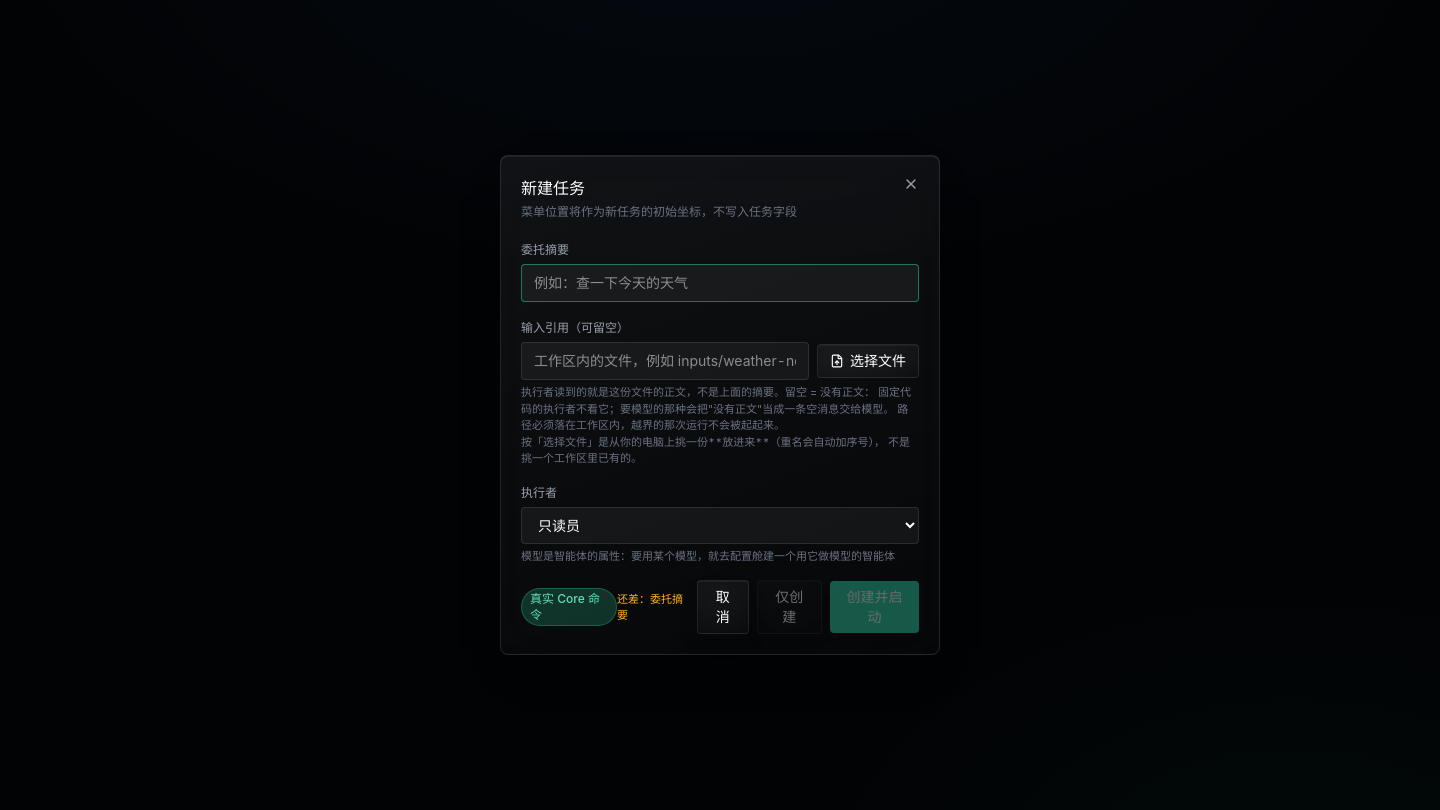
Test: 新建任务 › 输入引用可以缺省：后端本来就不要它
Type "只有摘要" into the field with placeholder "例如：查一下今天的天气" at (720, 283), box top-left (521, 264), bottom-right (919, 302)
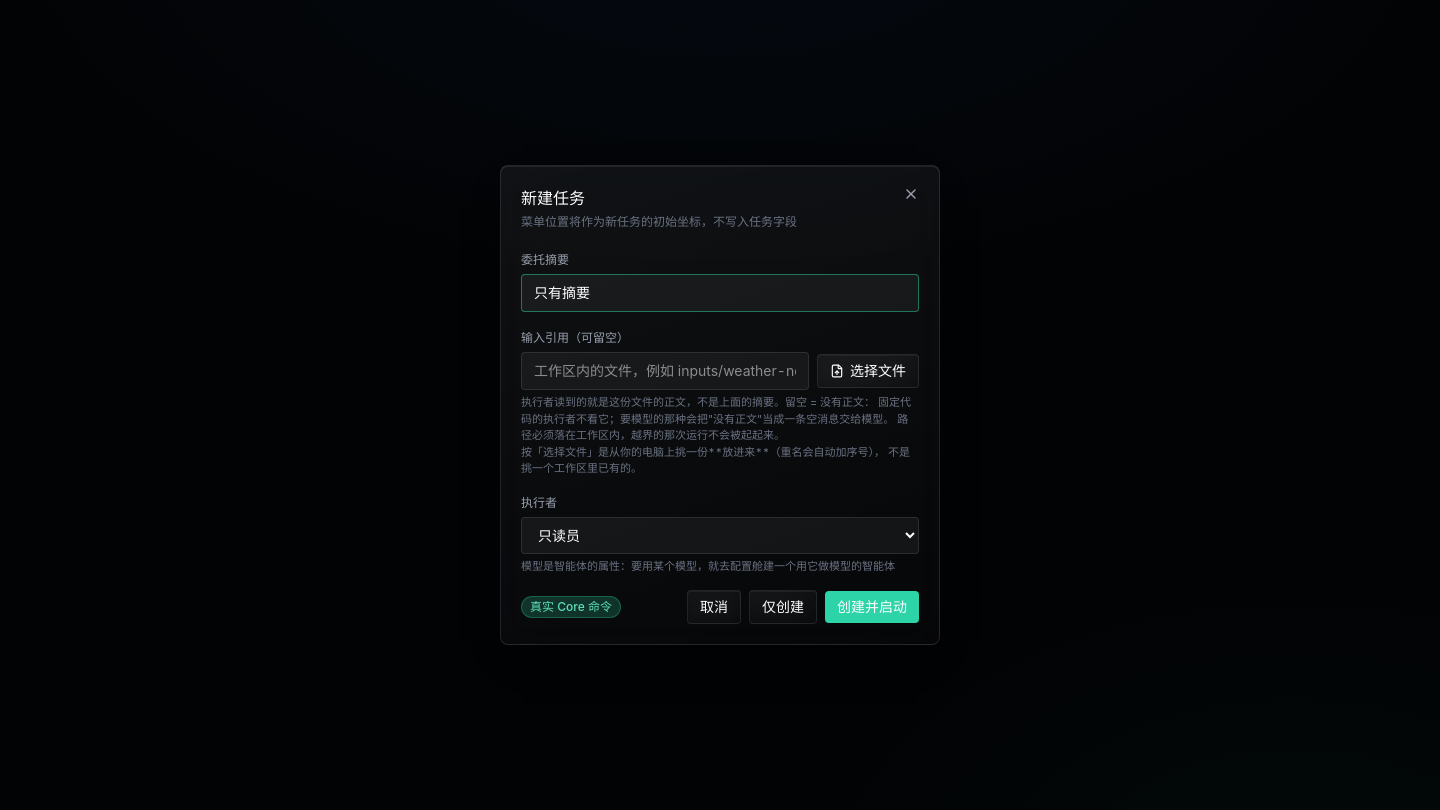
Now the button "创建并启动" is enabled, box top-left (825, 591), bottom-right (919, 623)
